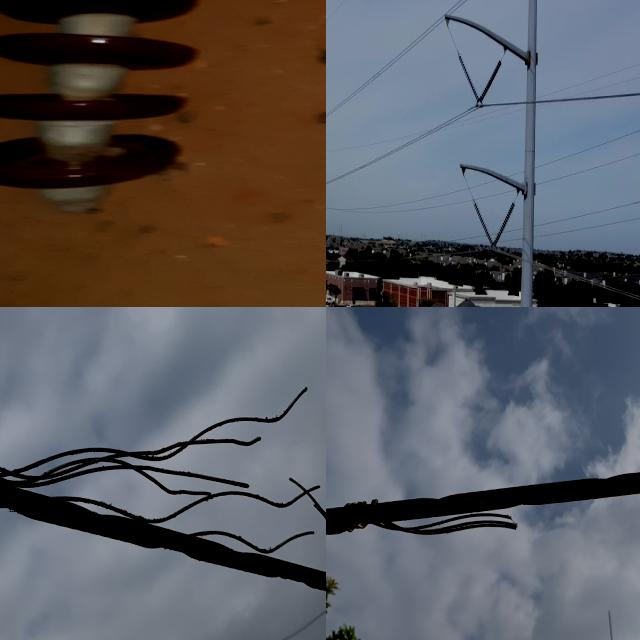杆塔: (620, 41, 640, 307)
正常绝缘子: (0, 0, 219, 206), (481, 193, 523, 270), (451, 35, 488, 115), (470, 52, 508, 121), (466, 188, 502, 258)
电缆破损: (0, 361, 326, 618), (326, 478, 540, 556)
